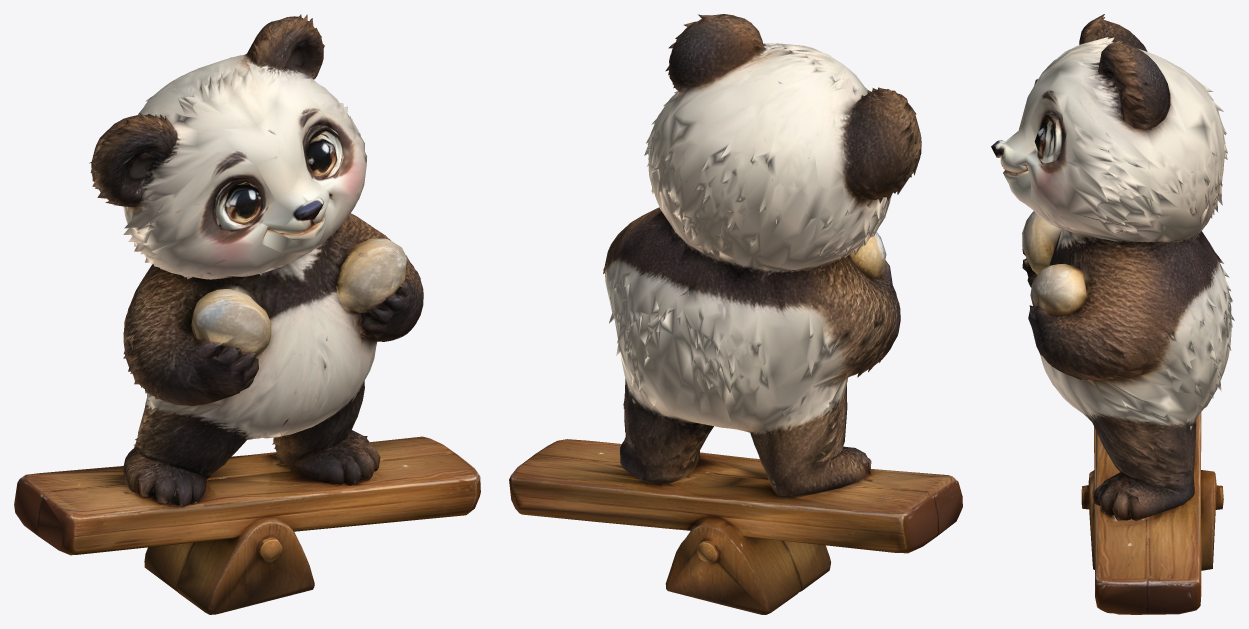
Rendered from balancepanda.glb.
The picture shows the model from 3 angles, left to right: view 1: azimuth 30°, elevation 25°; view 2: azimuth 150°, elevation 25°; view 3: azimuth 270°, elevation 25°; orthographic projection. The views are drawn at different scales.
Parts seen in each view (by area): view 1: node_0; view 2: node_0; view 3: node_0.
Part boxes in pixels (bbox=[...]): node_0: bbox=[14, 14, 480, 614]; node_0: bbox=[509, 14, 962, 614]; node_0: bbox=[991, 14, 1234, 614].
Bounding box in the file's own units: 0.7839 × 1 × 0.4242.
1 material, 1 textured.
